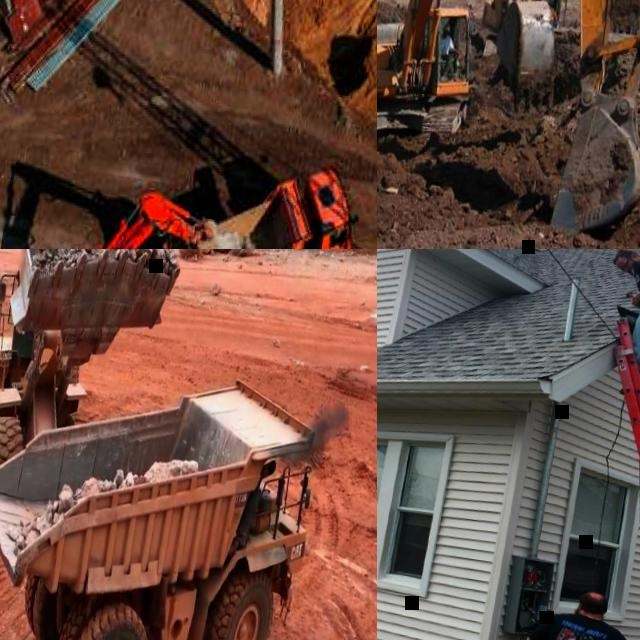Hardhat: (443, 23, 452, 31)
NO-Hardhat: (581, 589, 611, 607), (612, 249, 633, 264)
NO-Mask: (442, 33, 448, 39)
NO-Safety Vest: (531, 606, 621, 640), (438, 35, 451, 56)
Person: (507, 580, 640, 640), (594, 249, 640, 401), (433, 22, 463, 76)
machinery: (0, 334, 333, 640), (377, 0, 640, 249), (0, 249, 192, 571), (377, 0, 587, 182), (142, 137, 364, 249), (0, 165, 227, 249)
